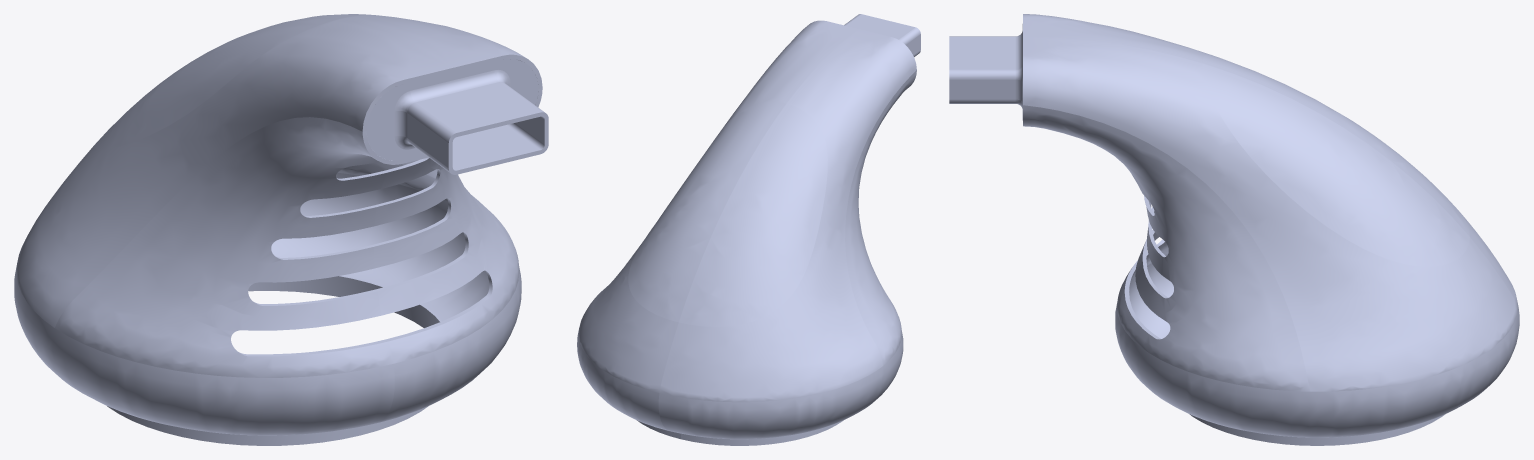
Rendered from earphone surfacing cover.glb.
3 renders of one model, left to right at view 1: azimuth 30°, elevation 25°; view 2: azimuth 150°, elevation 25°; view 3: azimuth 270°, elevation 25°, orthographic. The views are drawn at different scales.
Visible parts, largest first — view 1: empty_2; view 2: empty_2; view 3: empty_2.
Part boxes in pixels (x1,y1,x2,y2): empty_2: [14, 14, 548, 445]; empty_2: [577, 14, 920, 445]; empty_2: [949, 14, 1519, 445].
Bounding box in the file's own units: 110 × 104 × 155.
